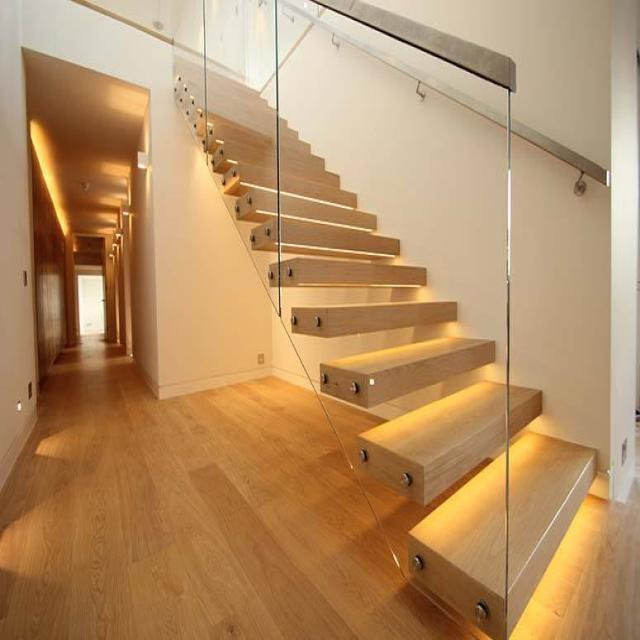stairs: (172, 54, 597, 636)
